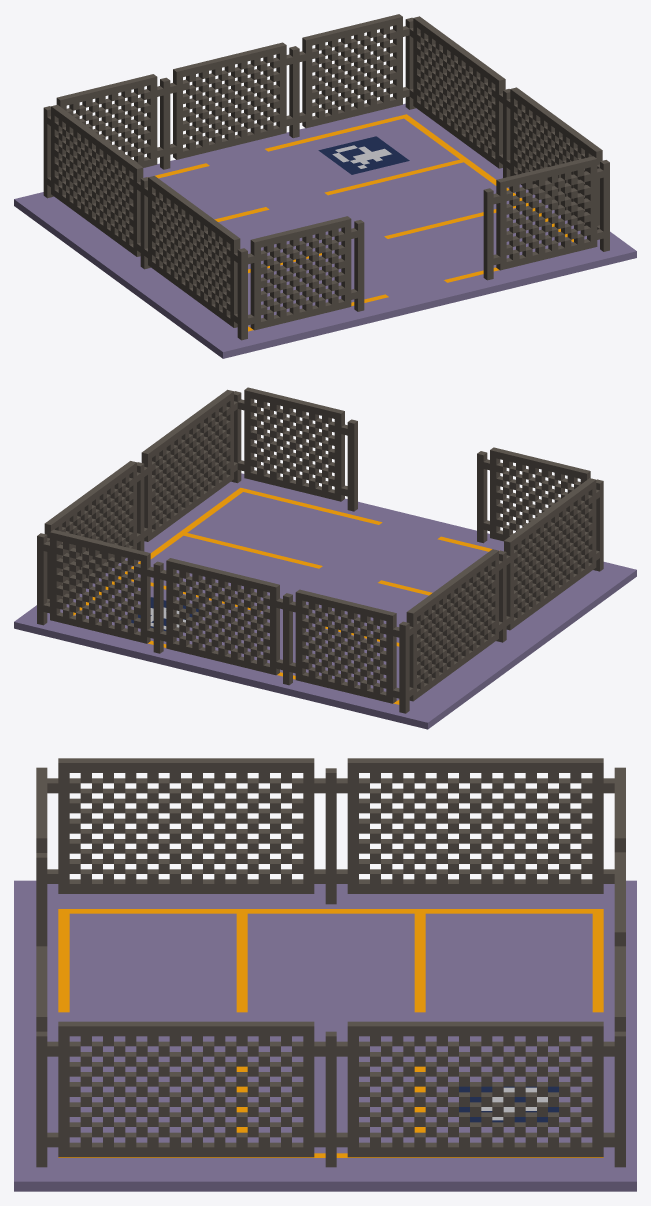
Rendered from parking_lot_a.obj.
The picture shows the model from 3 angles, top to bottom: view 1: azimuth 30°, elevation 25°; view 2: azimuth 150°, elevation 25°; view 3: azimuth 270°, elevation 25°; orthographic projection. The views are drawn at different scales.
Bounding box in the file's own units: 6.4 × 1.5 × 5.6.
1 material, 1 textured.
